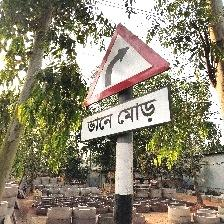Right-turn: (80, 22, 174, 145)
